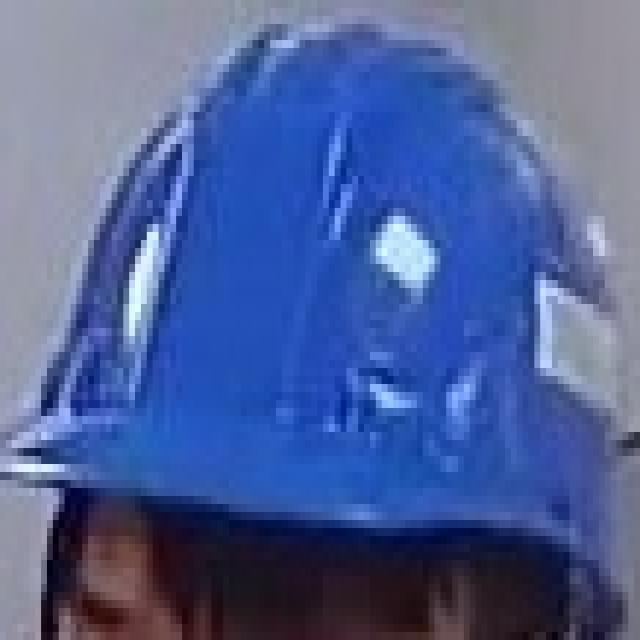helmet: (0, 28, 615, 574)
